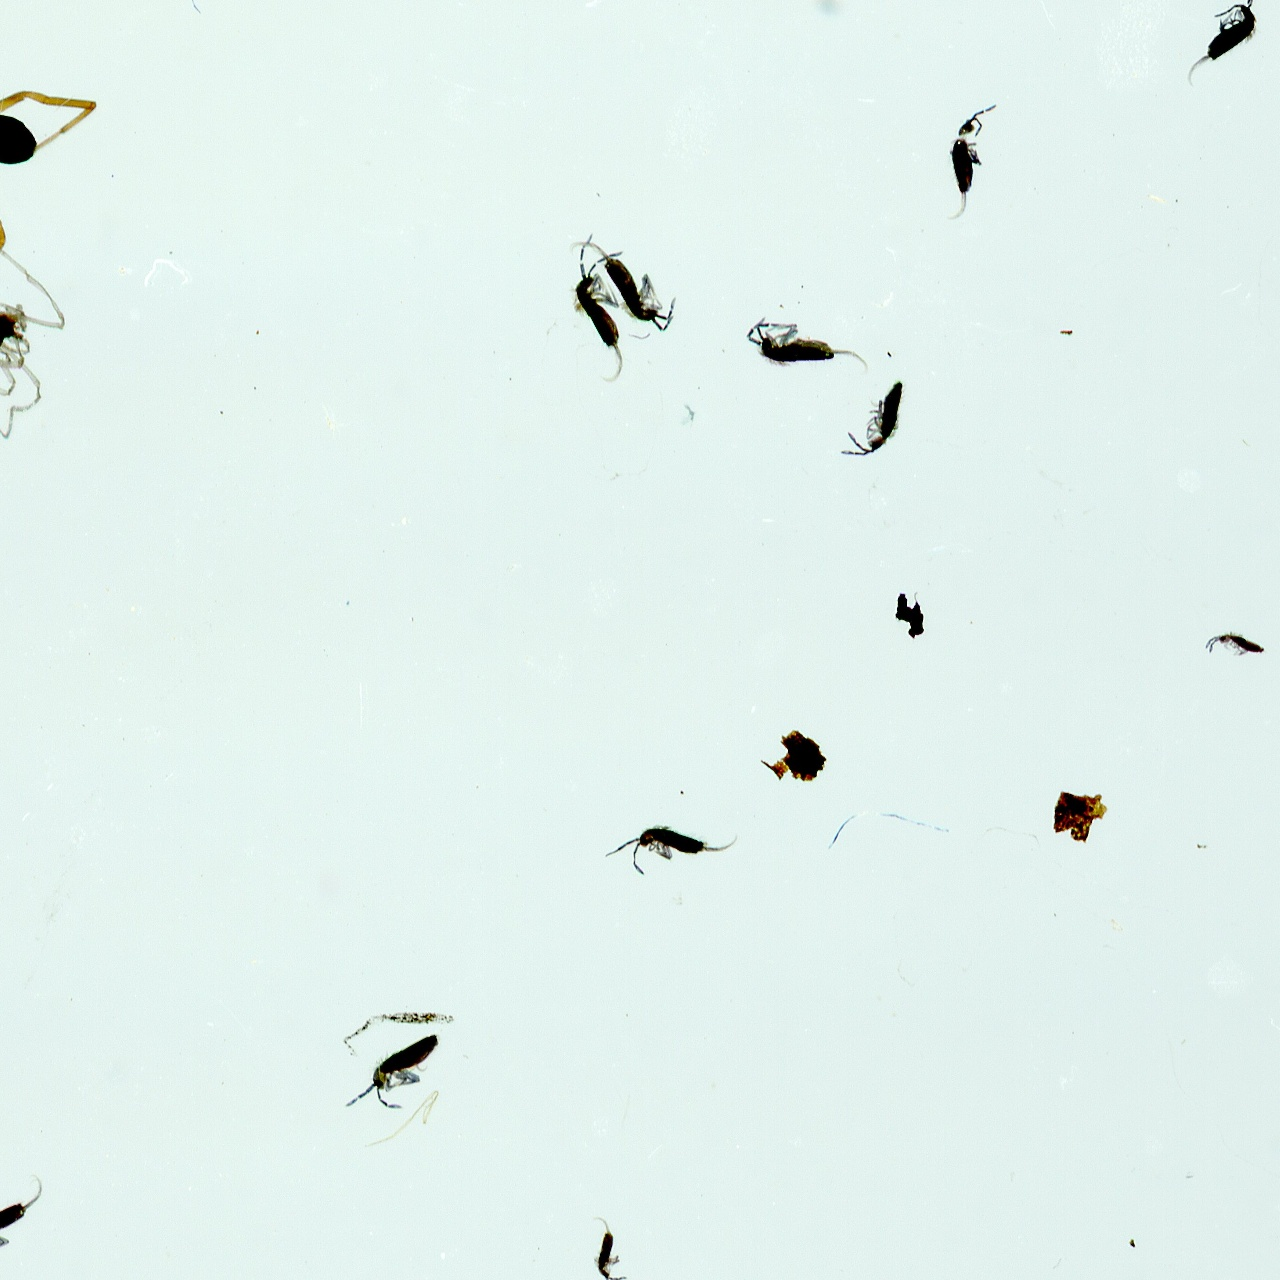arthropod: (0, 56, 101, 282), (560, 202, 698, 351), (334, 1003, 460, 1142), (0, 220, 73, 448), (1164, 0, 1280, 111), (742, 301, 879, 380), (589, 815, 747, 880), (568, 226, 629, 390), (945, 93, 1004, 227), (834, 374, 907, 466), (0, 1165, 52, 1280), (1198, 617, 1278, 668), (588, 1209, 635, 1280)
